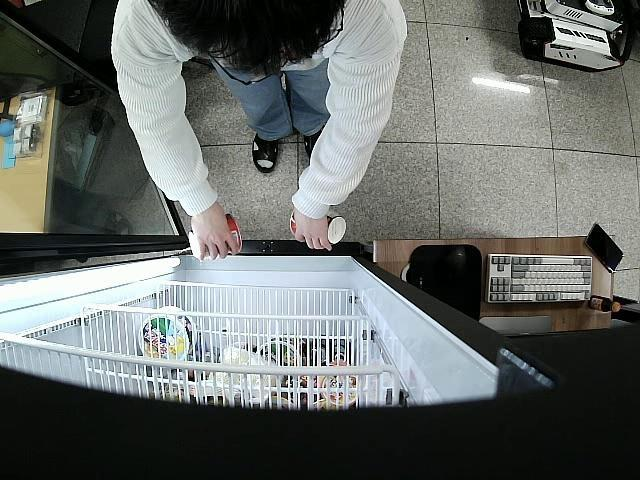02_shinRamen_S: (188, 213, 242, 256), (288, 210, 346, 244)
